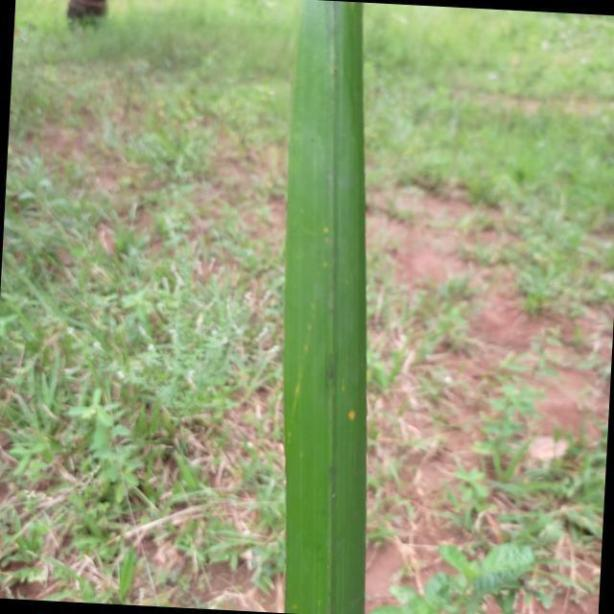Kalium: (280, 0, 368, 614)
